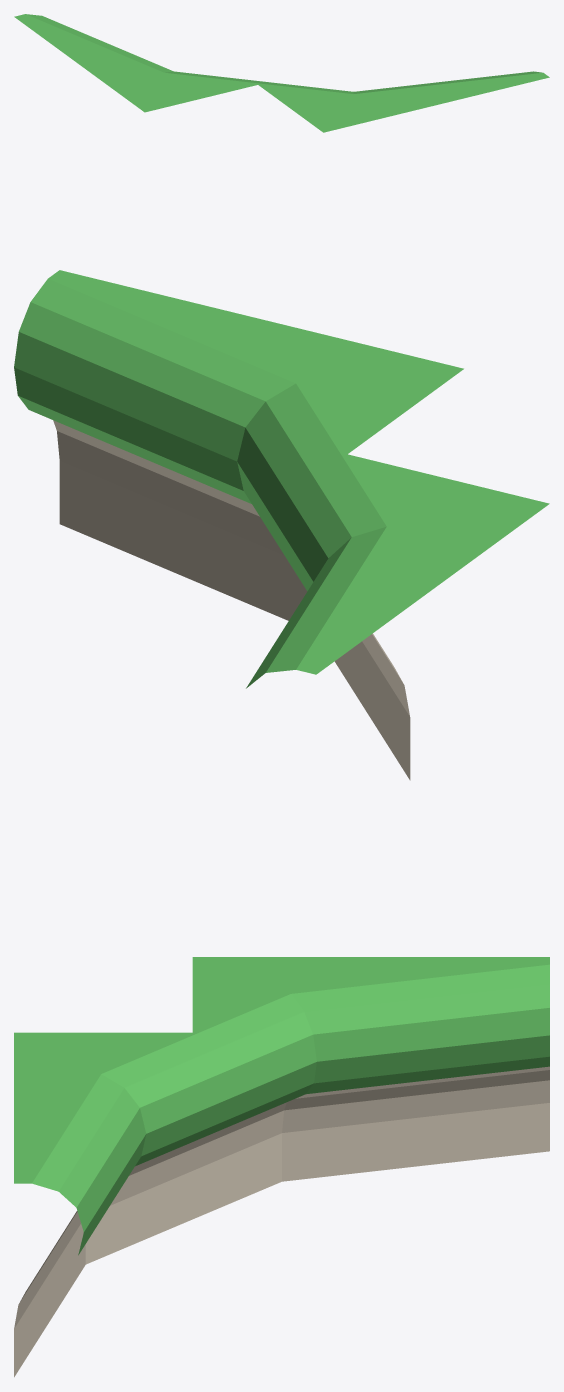
The model's file is Escarpment_Terrain_Corner_Inner_3x3_Top.glb.
3 views of the same model, one above another, from view 1: azimuth 30°, elevation 25°; view 2: azimuth 150°, elevation 25°; view 3: azimuth 270°, elevation 25° (orthographic). The views are drawn at different scales.
Visible parts, largest first — view 1: Escarpment_Terrain_Corner_Inner_3x3_Top; view 2: Escarpment_Terrain_Corner_Inner_3x3_Top; view 3: Escarpment_Terrain_Corner_Inner_3x3_Top.
Part boxes in pixels (<box>): Escarpment_Terrain_Corner_Inner_3x3_Top: <box>14,14,549,132</box>; Escarpment_Terrain_Corner_Inner_3x3_Top: <box>14,270,549,780</box>; Escarpment_Terrain_Corner_Inner_3x3_Top: <box>14,957,549,1377</box>.
Size of the model in its own units: 3 by 1.2 by 3.
